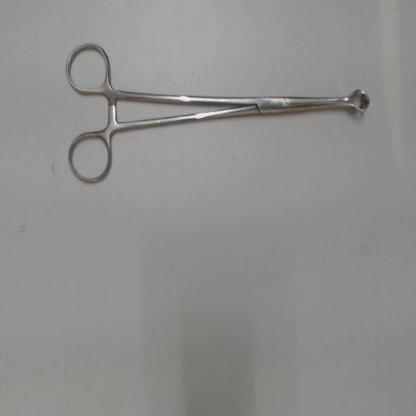8 Babcock Tissue Forceps: (60, 35, 374, 189)
